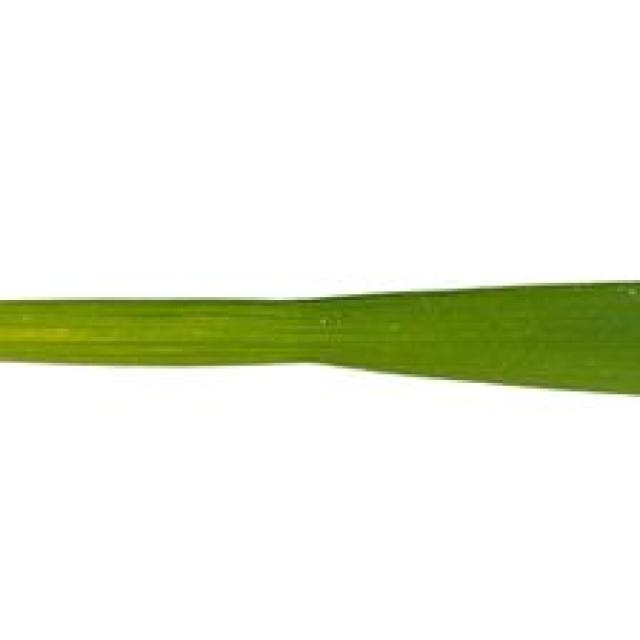Rice___Healthy_Rice_Plant: (0, 281, 637, 402)
